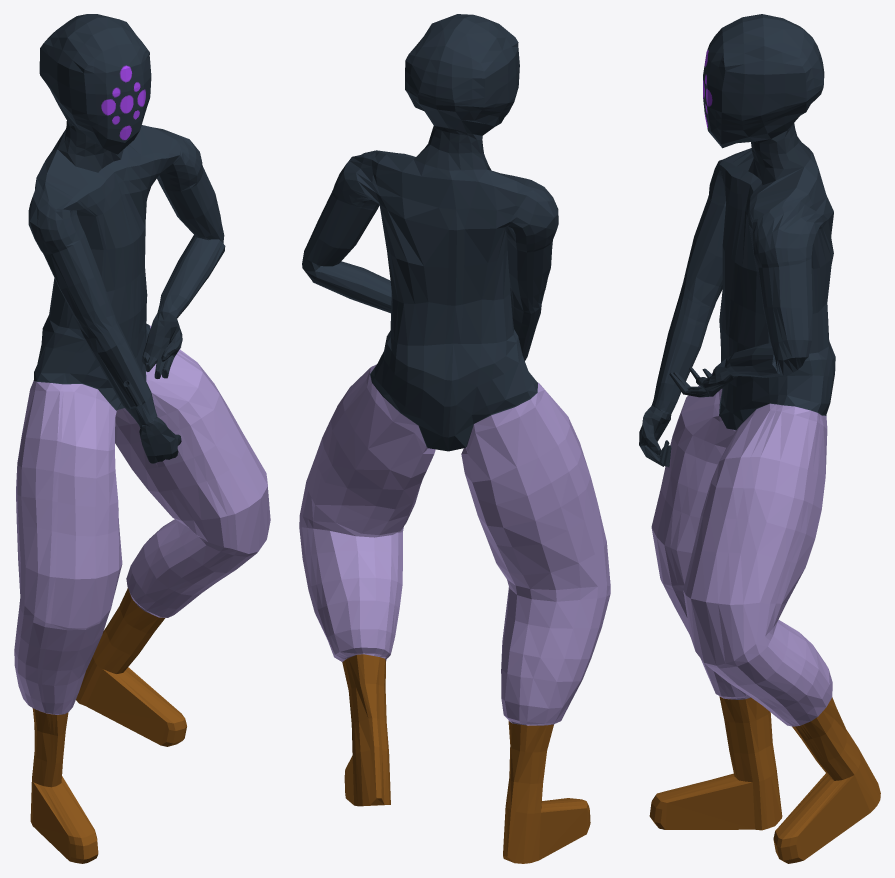
Rendered from Oracle_WR_000021.obj.
The picture shows the model from 3 angles, left to right: view 1: azimuth 30°, elevation 25°; view 2: azimuth 150°, elevation 25°; view 3: azimuth 270°, elevation 25°; orthographic projection. The views are drawn at different scales.
Parts seen in each view (by area): view 1: Cube; view 2: Cube; view 3: Cube.
Boxes of the visible parts, <box> form: Cube: <box>14,14,270,863</box>; Cube: <box>299,14,610,863</box>; Cube: <box>639,14,880,863</box>.
Size of the model in its own units: 1.36 by 3.86 by 1.01.
